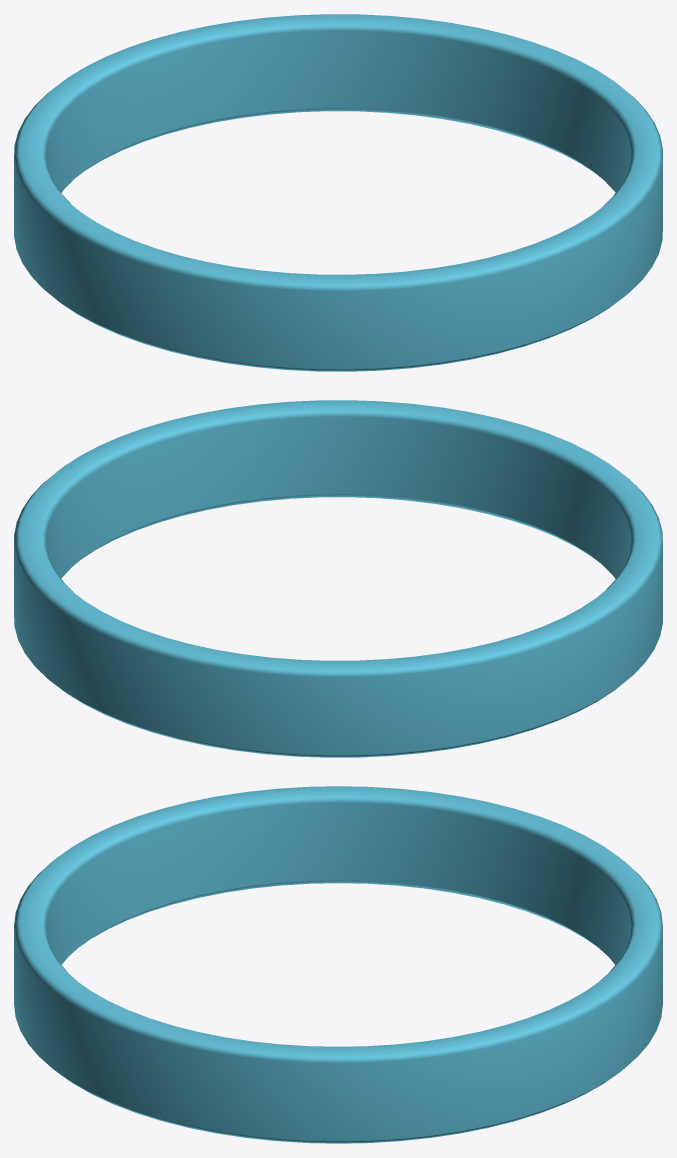
3 views of the same model, one above another, from view 1: azimuth 30°, elevation 25°; view 2: azimuth 150°, elevation 25°; view 3: azimuth 270°, elevation 25° (orthographic).
Parts seen in each view (by area): view 1: seal_body; view 2: seal_body; view 3: seal_body.
Part boxes in pixels (<box>): seal_body: <box>14,14,662,371</box>; seal_body: <box>14,400,662,757</box>; seal_body: <box>14,786,662,1143</box>.
Bounding box in the file's own units: 0.0635 × 0.00952 × 0.0635.
